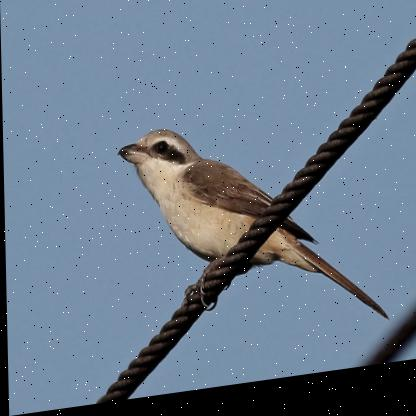Burung: (115, 109, 391, 367)
